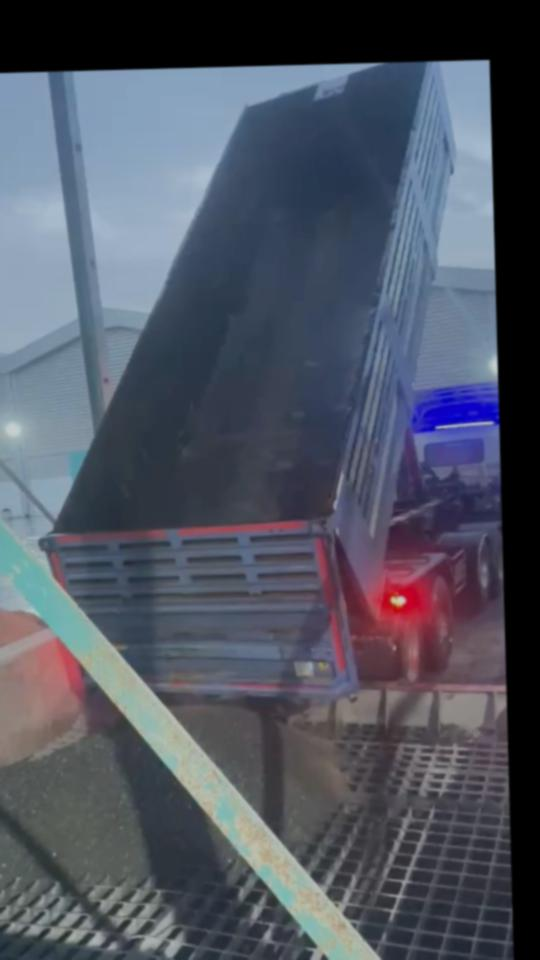gravel: (0, 714, 238, 886), (174, 704, 348, 848), (389, 798, 504, 812)
sand: (0, 596, 45, 656)
